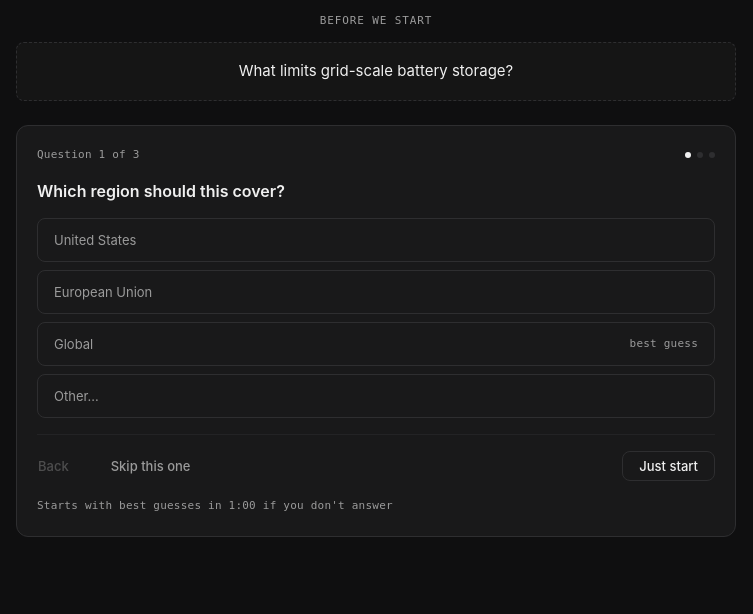
Test: ClarifyStage — the card › Just start keeps the words typed into the open Other… field for the question in view
Click the button "Global best guess": [74, 344] box [37,322,715,366]
Wait 240 ms
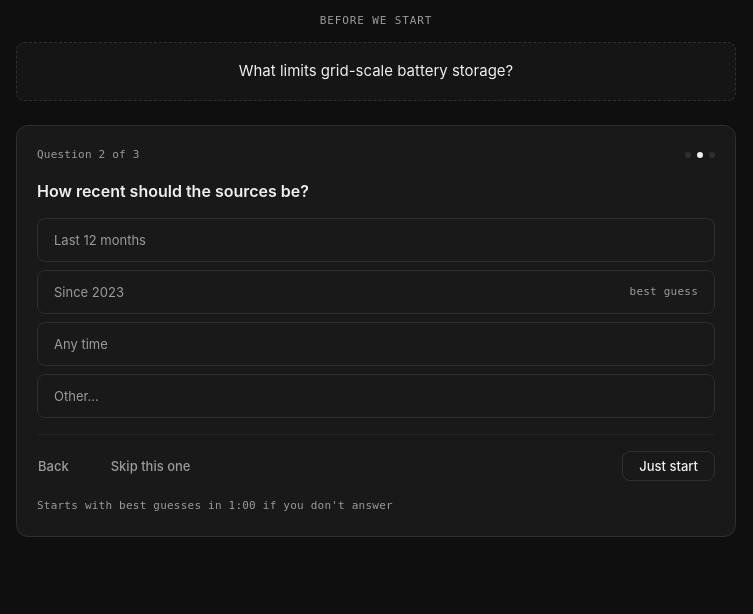
Click the button "Other…": [76, 396] box [37,374,715,418]
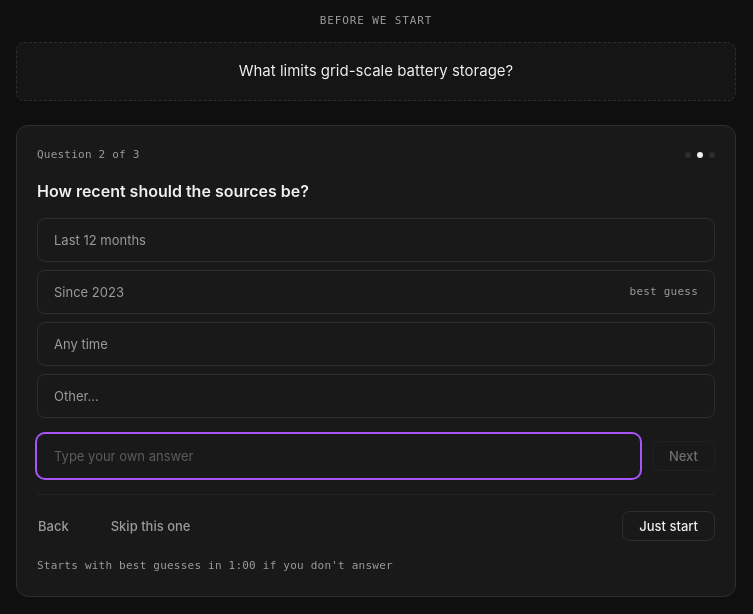
In the field labelled "your own answer": [338, 456] box [37,434,640,478], type "  since 2021 "
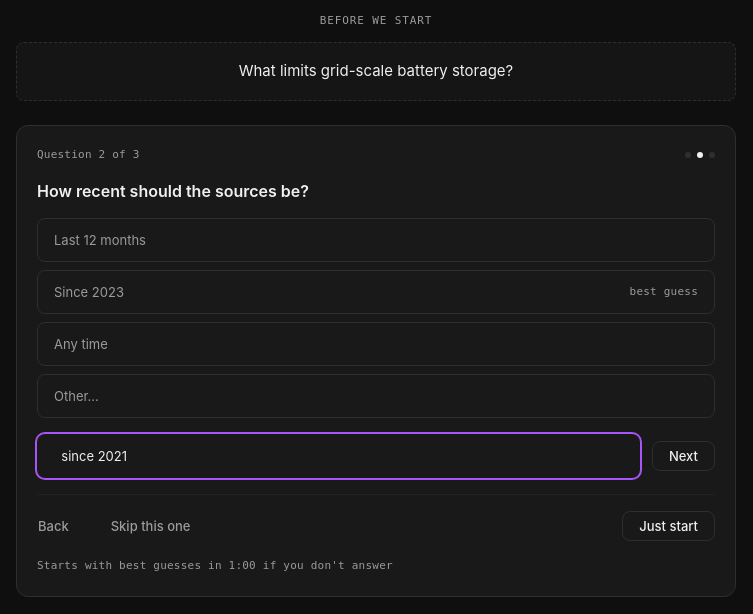
Click the button "Just start": [669, 526] box [622,511,715,541]
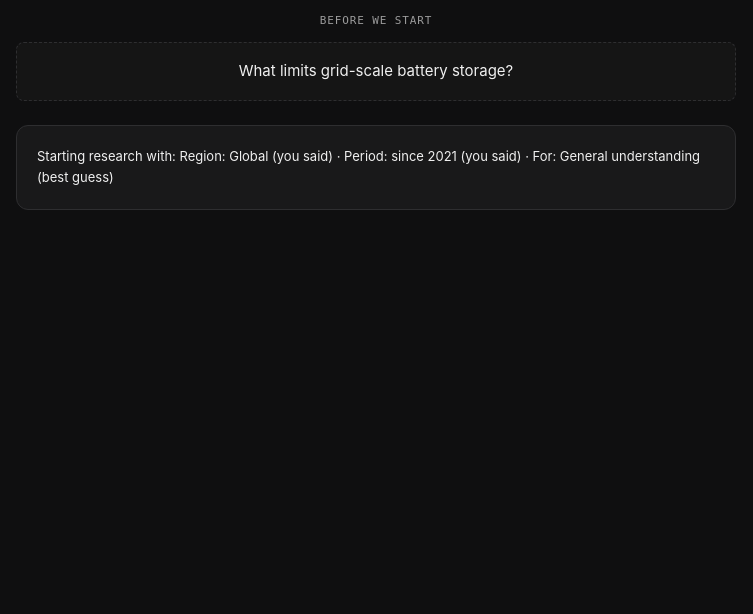
Expected: the text with id "clarifySummary" shows "Starting research with: Region: Global (you said) · Period: since 2021 (you said) · For: General understanding (best guess)", [37,148,700,185]
